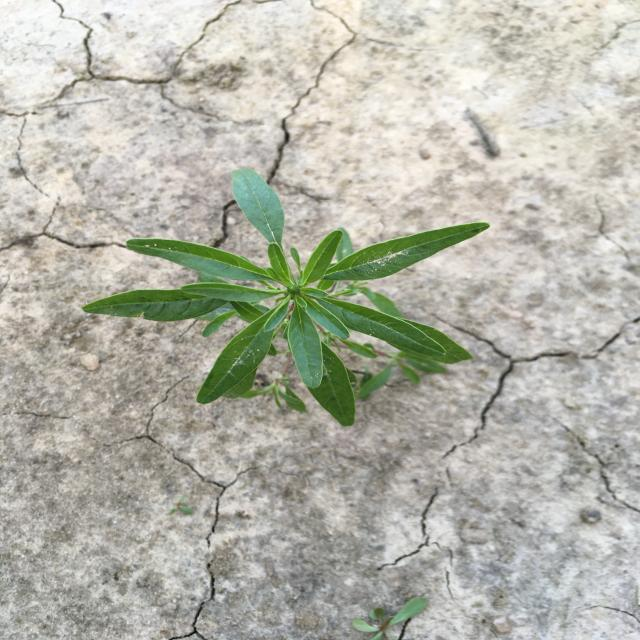Waterhemp: (80, 167, 492, 429)
